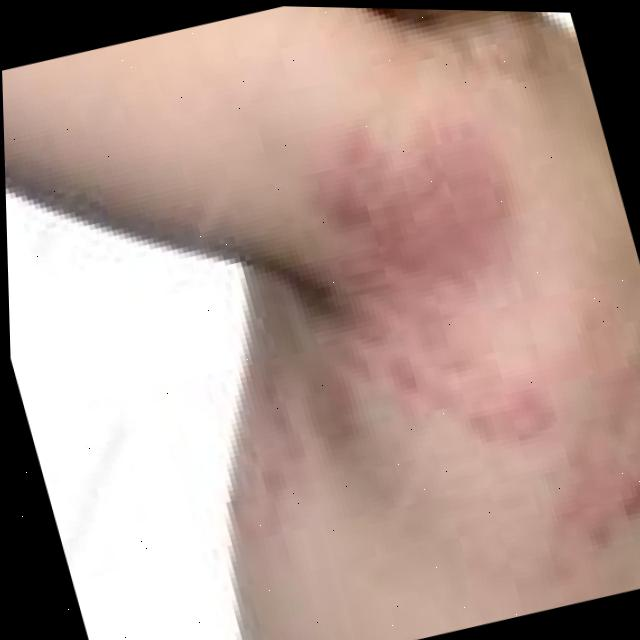Shingles: (131, 87, 588, 535), (501, 444, 640, 601)
